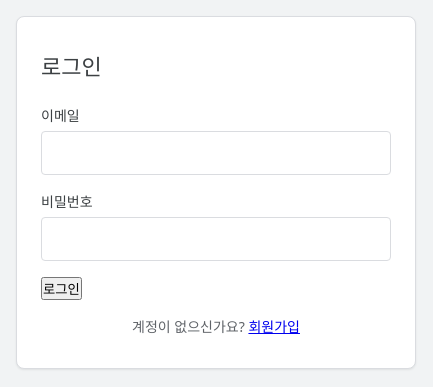
LoginPage › 제출 중 버튼 비활성화
Type "test@test.com" into the field labelled "이메일" at x=216, y=153, box [41,131,391,175]
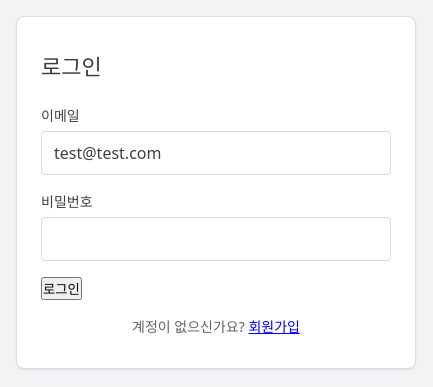
Type "pass1234" into the password field labelled "비밀번호" at x=216, y=239, box [41,217,391,261]
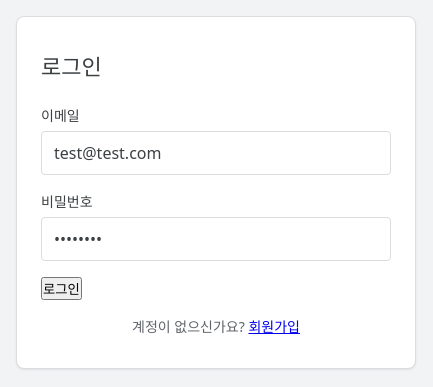
Click the button "로그인" at x=61, y=288, box [41,277,82,300]
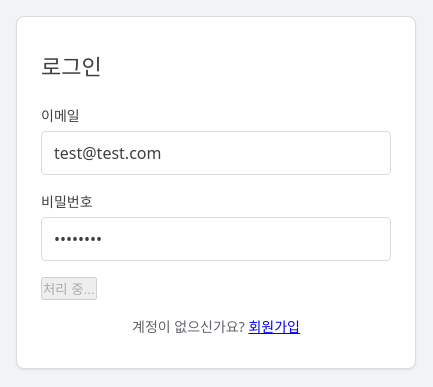
Check: the button "처리 중..." is disabled, box [41,277,97,300]
